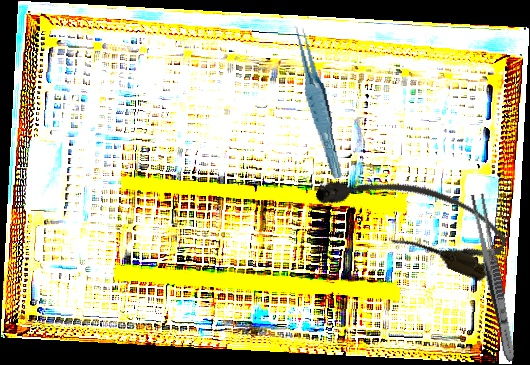Cannula: (309, 147, 514, 286)
Dressing Forceps: (467, 192, 520, 363)
Tissue Forceps: (292, 19, 344, 182)
